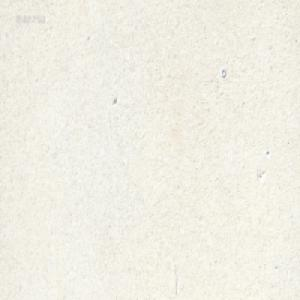Washer: (220, 67, 226, 78)
